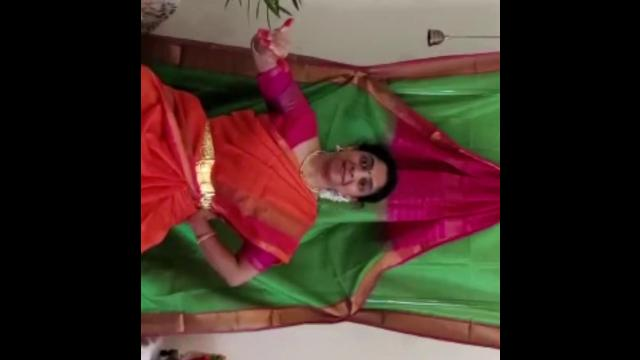mrighasheesh: (242, 0, 307, 80)
